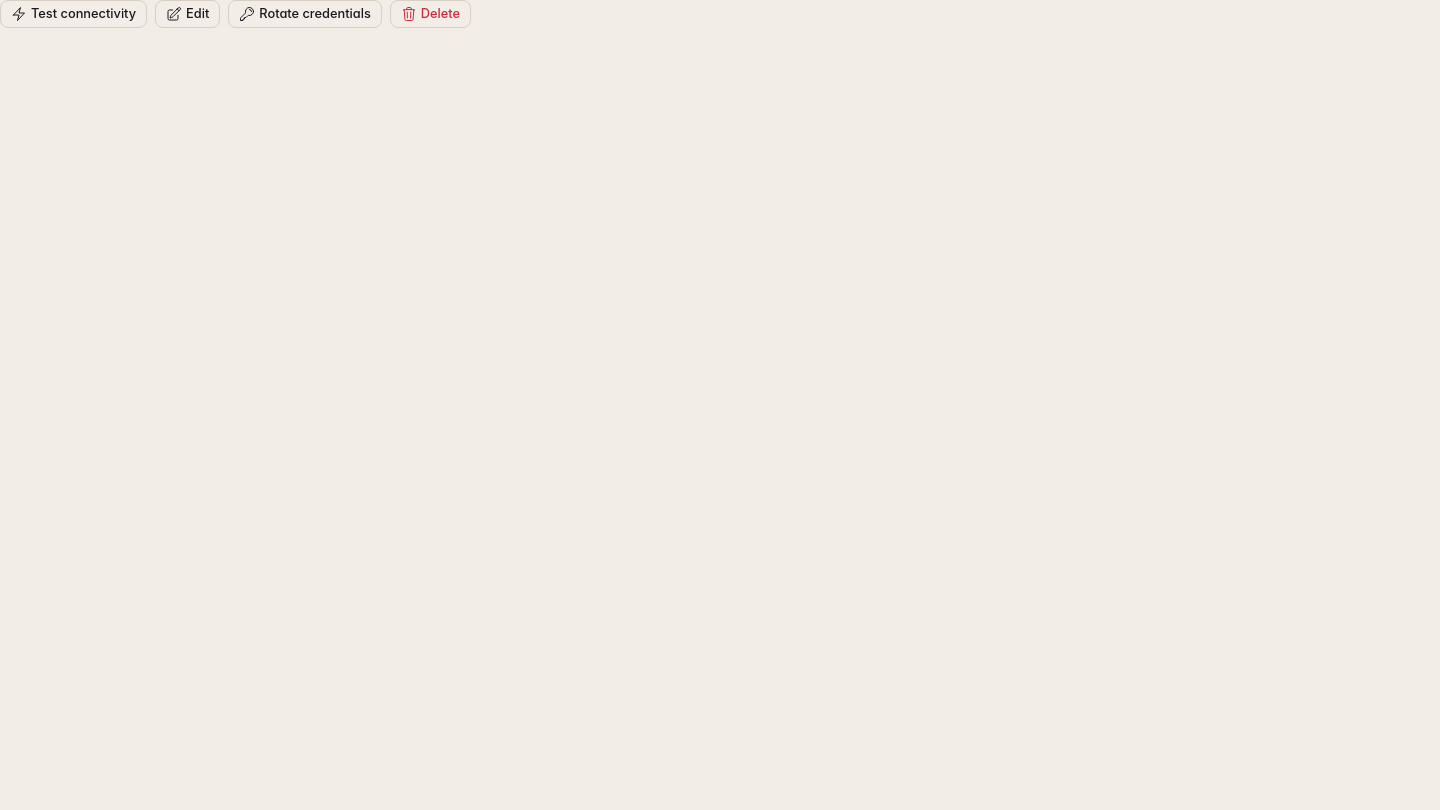
Scenario: BackendActions › refuses to save a poll interval that is not whole milliseconds
This screenshot has width=1440, height=810.
Click the button "Edit" at (188, 14), box [155, 0, 220, 28]
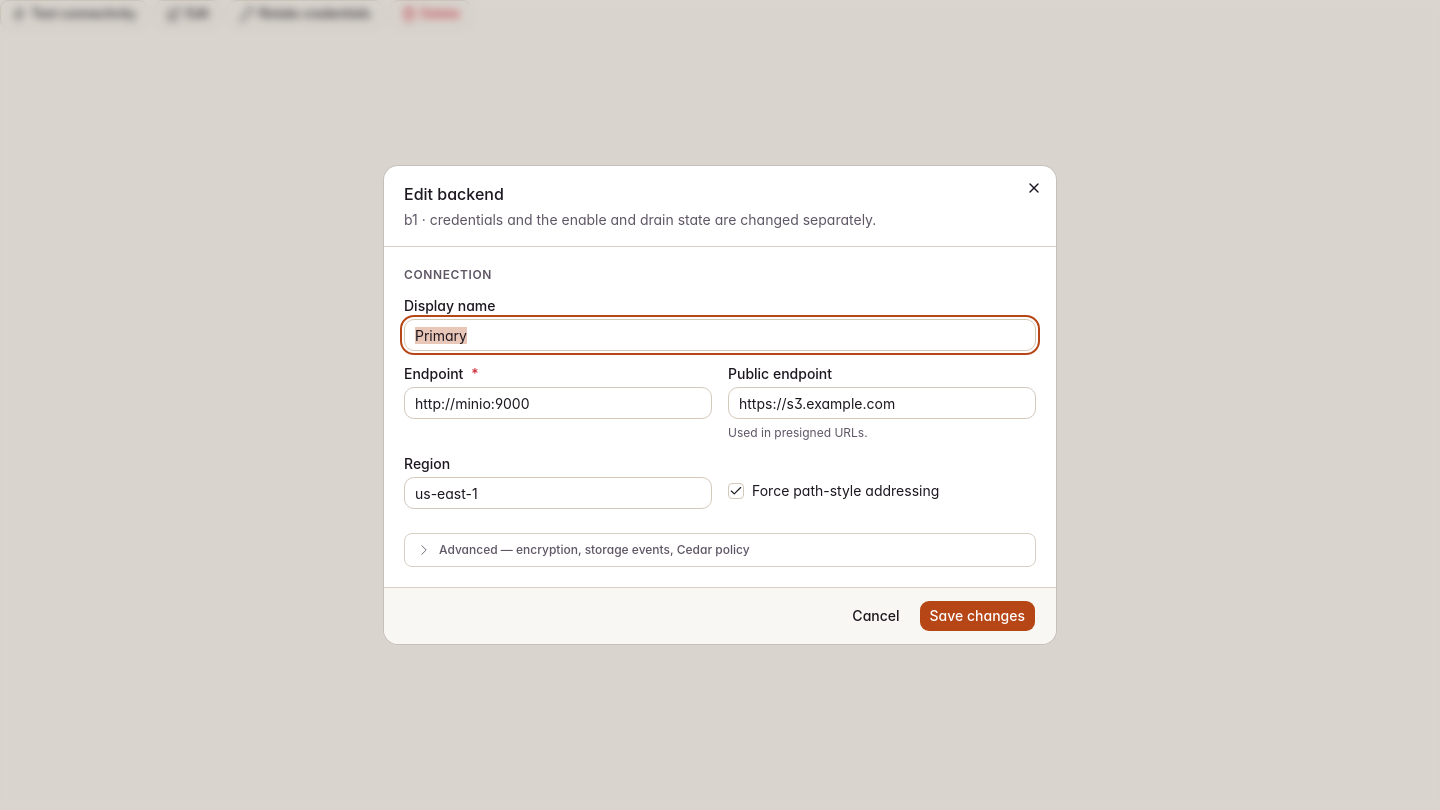
Click the button "Advanced — encryption, storage events, Cedar policy" at (720, 550), box [405, 534, 1035, 566]
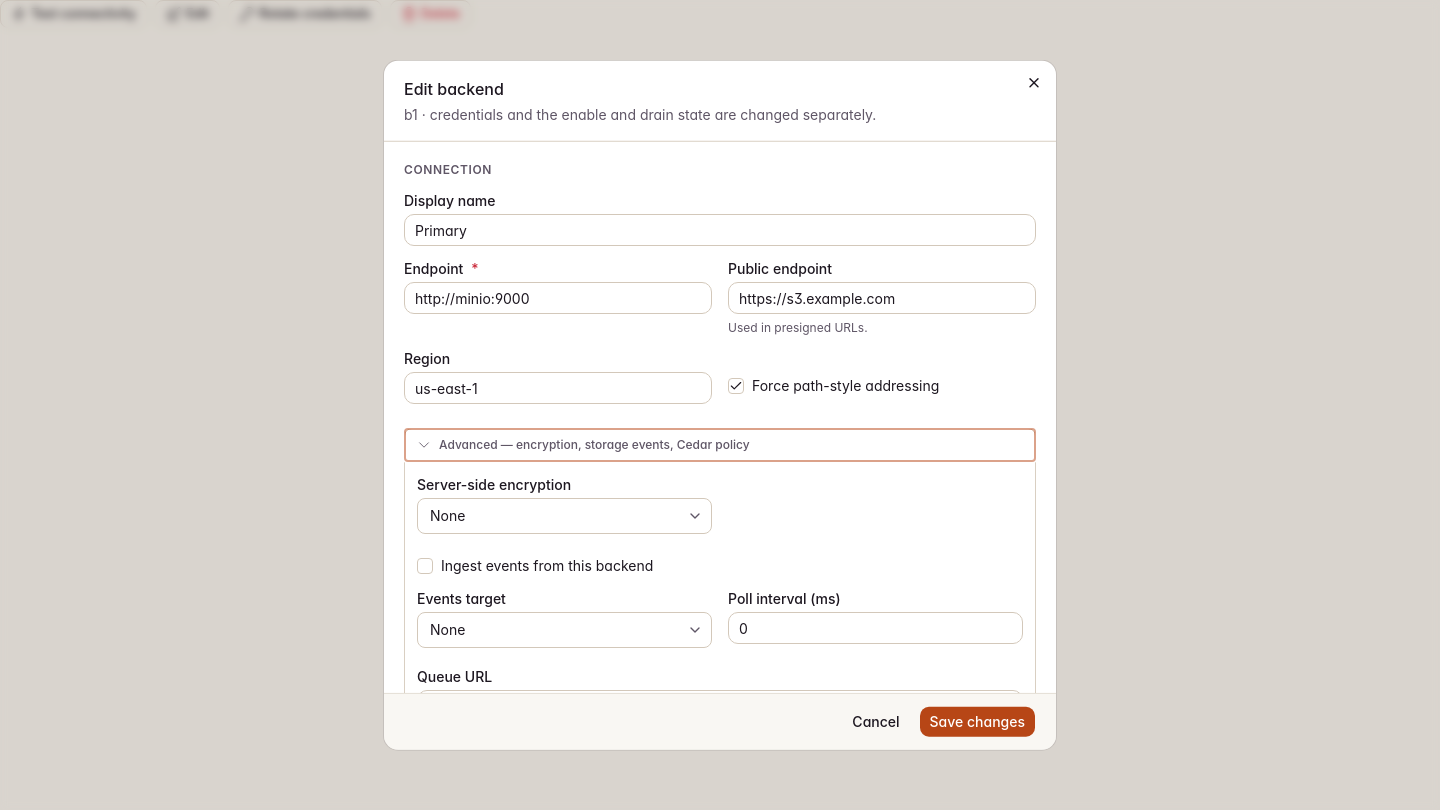
Replace the text in the field labelled "Poll interval (ms)" with "1.5s" at (876, 628), box [728, 612, 1023, 644]
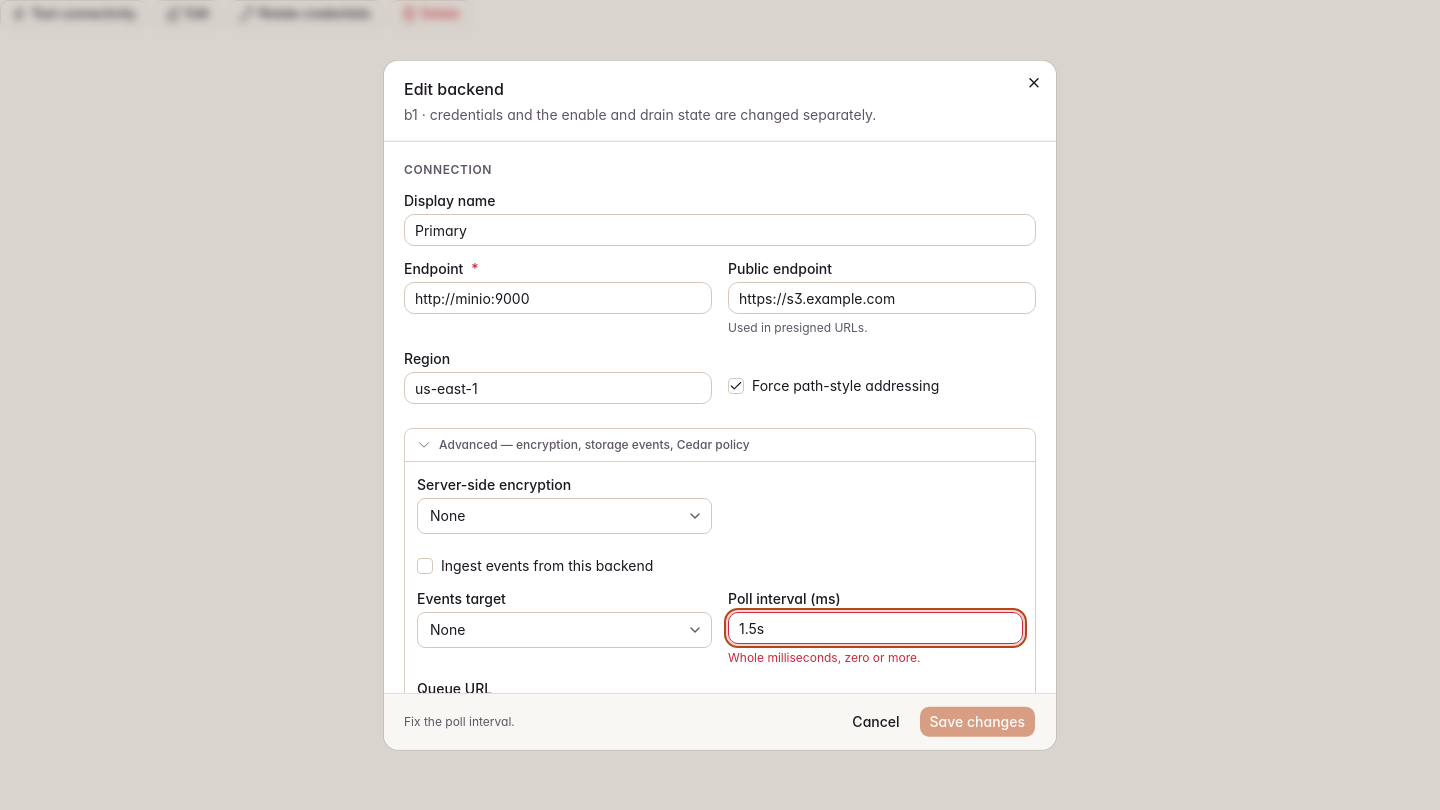
Now the button "Save changes" is disabled, box [918, 705, 1036, 737]
